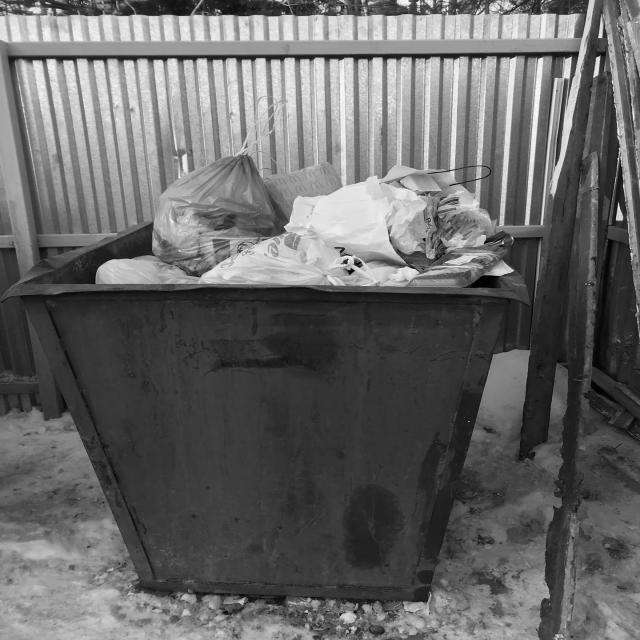Trashcan: (0, 110, 532, 615)
